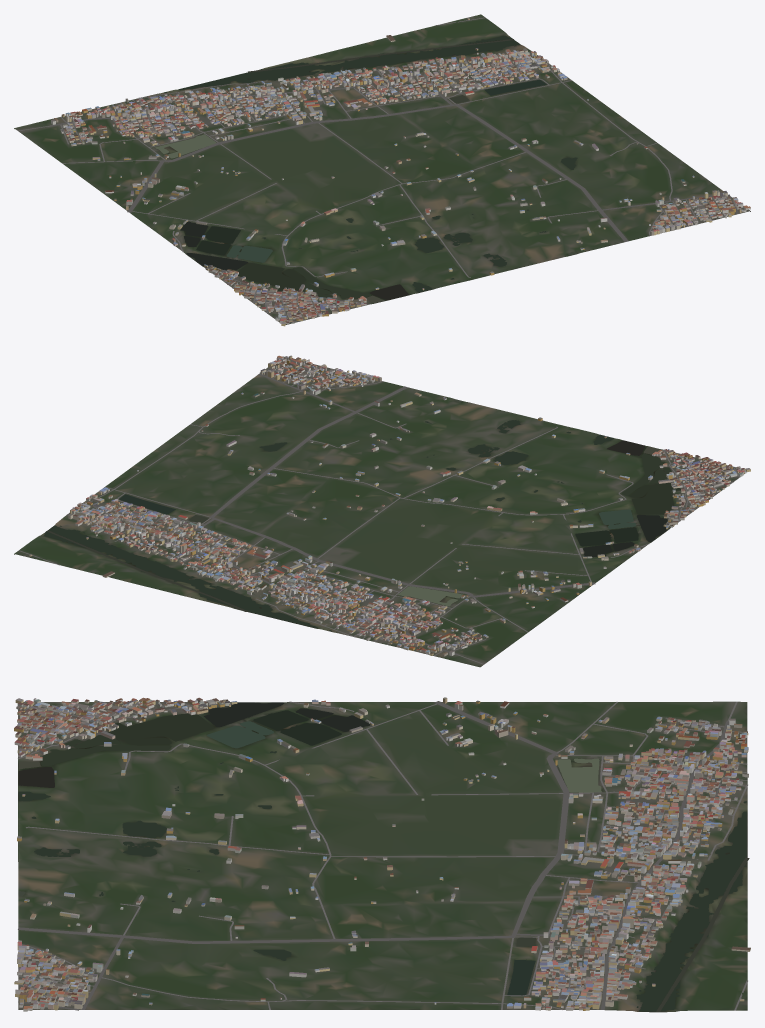
3 views of the same model, one above another, from view 1: azimuth 30°, elevation 25°; view 2: azimuth 150°, elevation 25°; view 3: azimuth 270°, elevation 25° (orthographic). The views are drawn at different scales.
Parts seen in each view (by area): view 1: ground, buildings, water, roads; view 2: ground, buildings, water, roads; view 3: ground, buildings, water, roads.
Part boxes in pixels (x1,y1,x2,y2): ground: (14,14,750,324); buildings: (51,17,750,326); water: (155,35,577,303); roads: (18,17,739,321); ground: (14,356,744,667); buildings: (29,355,750,656); water: (44,399,680,631); roads: (18,362,739,664); ground: (18,701,747,1012); buildings: (14,697,750,1011); water: (18,702,749,1012); roads: (18,701,747,1010).
Bounding box in the file's own units: 1417 × 27.57 × 1416.
